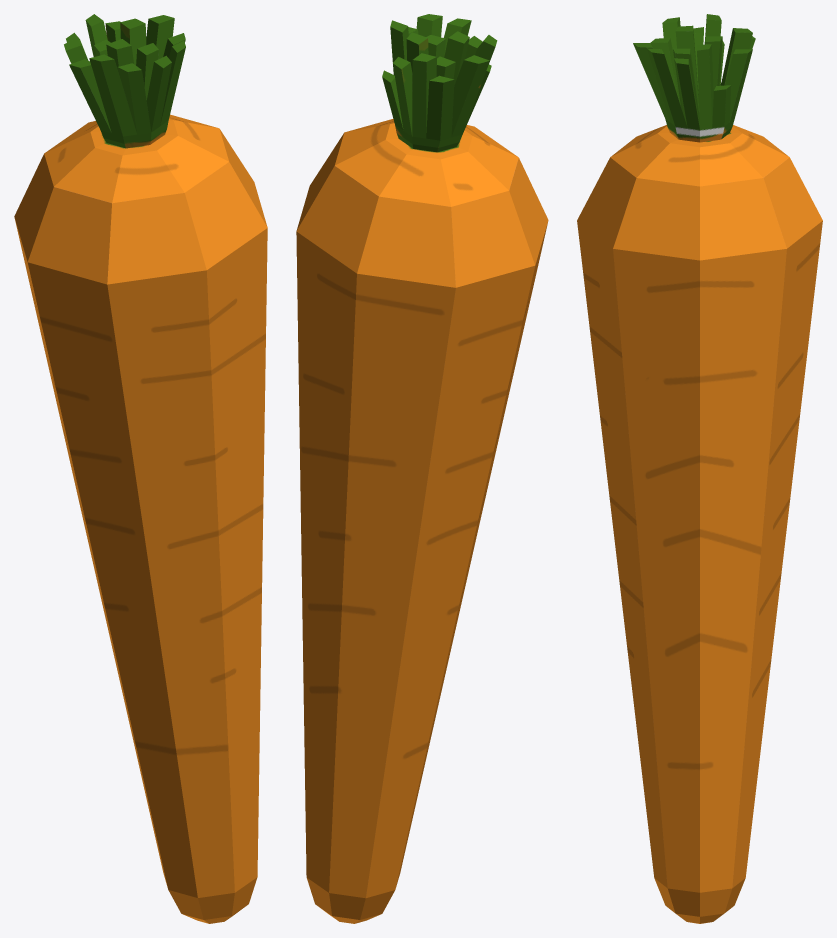
File: zanahoria.fbx
The picture shows the model from 3 angles, left to right: view 1: azimuth 30°, elevation 25°; view 2: azimuth 150°, elevation 25°; view 3: azimuth 270°, elevation 25°; orthographic projection. The views are drawn at different scales.
Parts seen in each view (by area): view 1: Cylinder; view 2: Cylinder; view 3: Cylinder.
Part boxes in pixels (bbox=[...]): Cylinder: bbox=[14, 14, 267, 923]; Cylinder: bbox=[296, 14, 548, 923]; Cylinder: bbox=[577, 14, 822, 923].
Bounding box in the file's own units: 116 × 445 × 116.
Materials: 1 (1 with a texture image).
